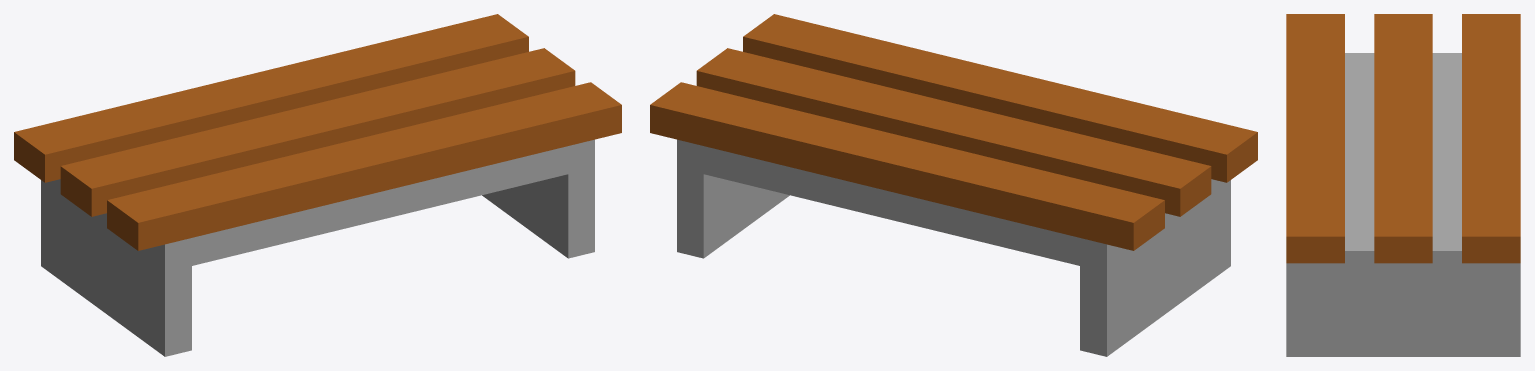
File: Bench_obj.obj
3 views of the same model, side by side, from view 1: azimuth 30°, elevation 25°; view 2: azimuth 150°, elevation 25°; view 3: azimuth 270°, elevation 25° (orthographic). The views are drawn at different scales.
Visible parts, largest first — view 1: 立方体.177; view 2: 立方体.177; view 3: 立方体.177.
Boxes of the visible parts, x1,y1,x2,y2 form: 立方体.177: (14,14,621,356); 立方体.177: (650,14,1257,356); 立方体.177: (1286,14,1520,356).
Bounding box in the file's own units: 18 × 5 × 8.
